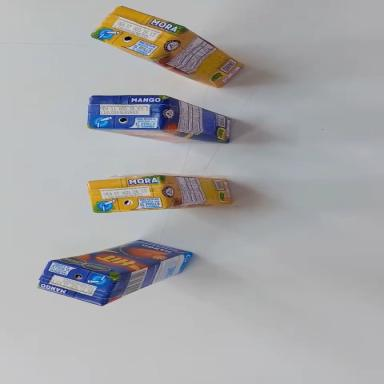HIT-MANGO: (33, 223, 199, 321), (88, 94, 231, 144)
HIT-MORA: (89, 0, 248, 94), (88, 171, 232, 213)
cara_F: (53, 226, 189, 291), (90, 129, 227, 144)
